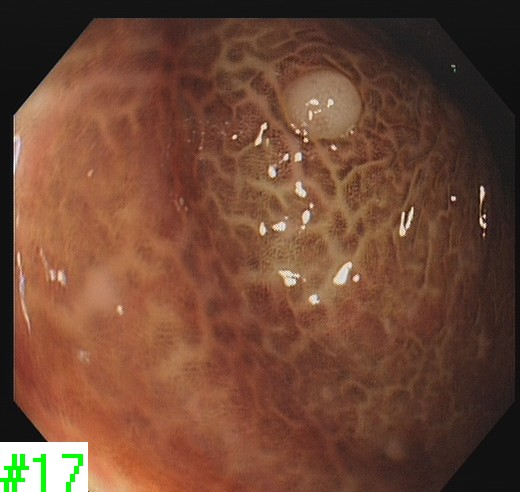adenoma: (276, 67, 365, 144)
